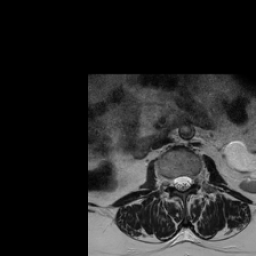CCS_normal: (179, 169, 185, 196)
LFS_normal: (191, 167, 198, 192)
LLS_normal: (185, 171, 191, 192)
RFS_normal: (166, 171, 172, 191)
RLS_normal: (172, 171, 179, 191)
